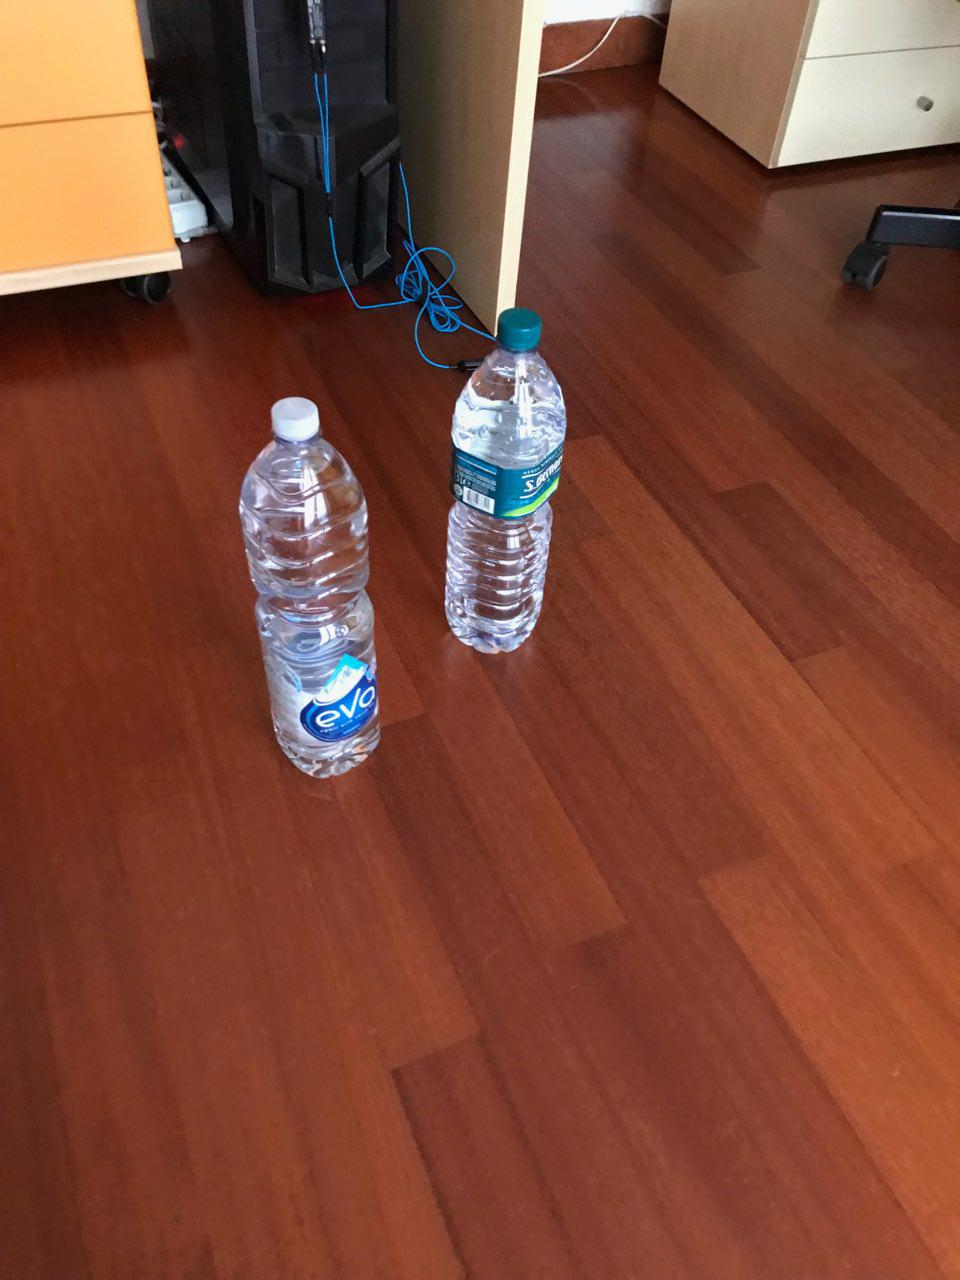san_bernardo: (442, 306, 568, 655)
